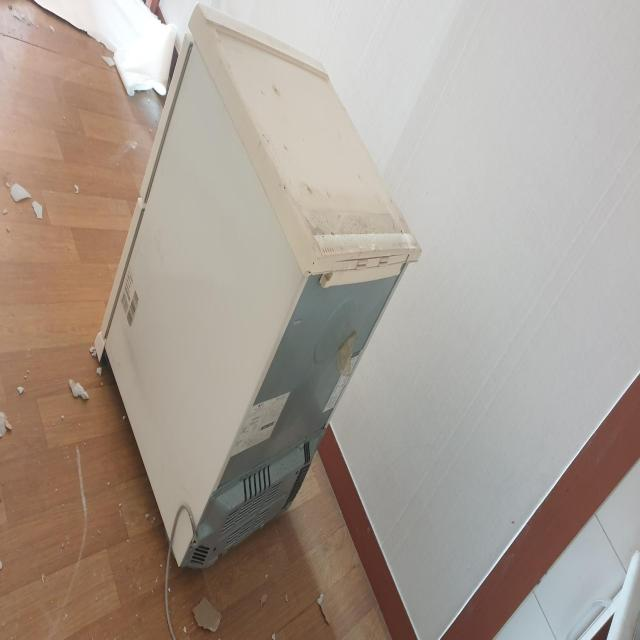refrigerator: (94, 9, 423, 574)
